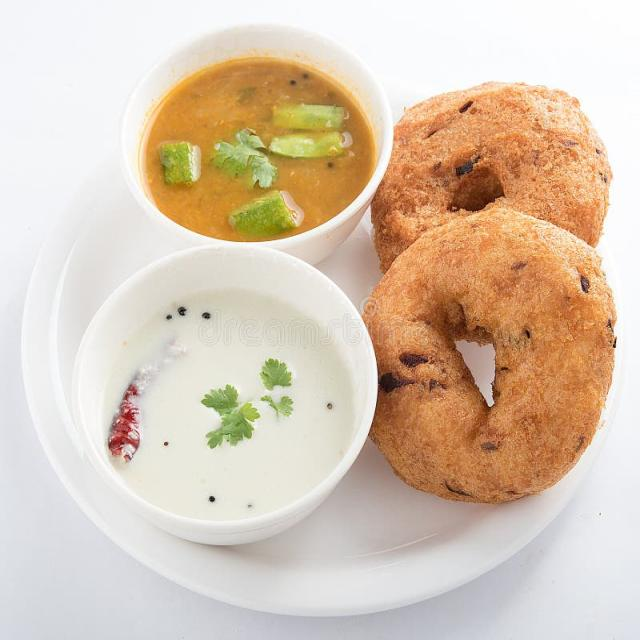MEDU VADA: (360, 212, 612, 508), (372, 77, 611, 268)
